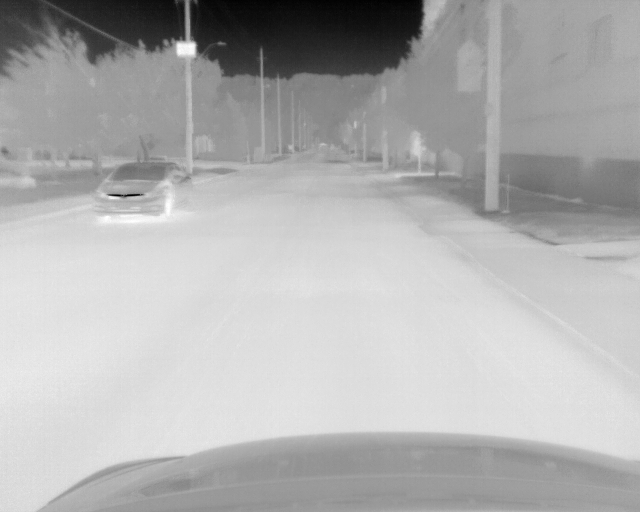car: (90, 158, 196, 222)
